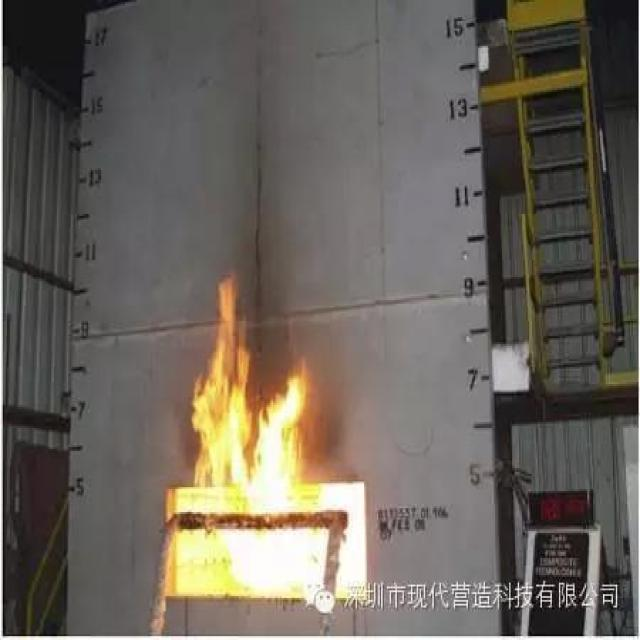fire: (167, 258, 331, 587)
